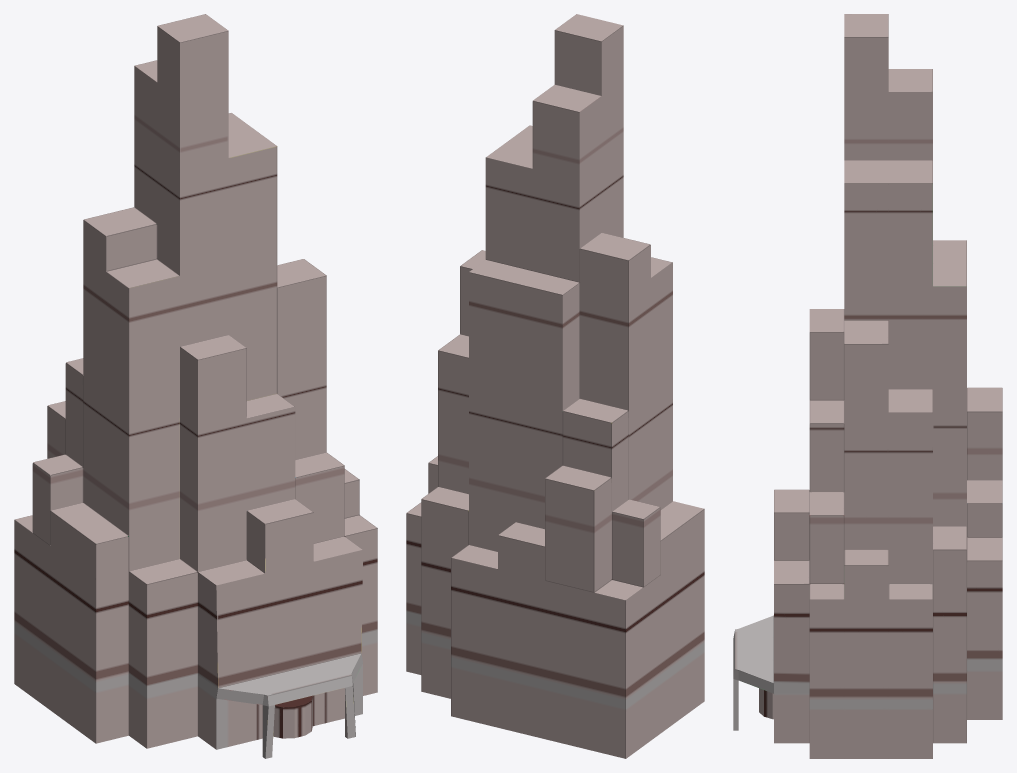
Rendered from TaxBuilding.fbx.
3 views of the same model, side by side, from view 1: azimuth 30°, elevation 25°; view 2: azimuth 150°, elevation 25°; view 3: azimuth 270°, elevation 25° (orthographic). The views are drawn at different scales.
Parts seen in each view (by area): view 1: cuboid, cylinder; view 2: cuboid; view 3: cuboid.
Boxes of the visible parts, x1,y1,x2,y2 form: cuboid: (14,14,377,758); cylinder: (273,695,312,738); cuboid: (406,14,704,758); cuboid: (733,14,1002,758).
Bounding box in the file's own units: 100 × 247 × 91.25.
1 material, 1 textured.
